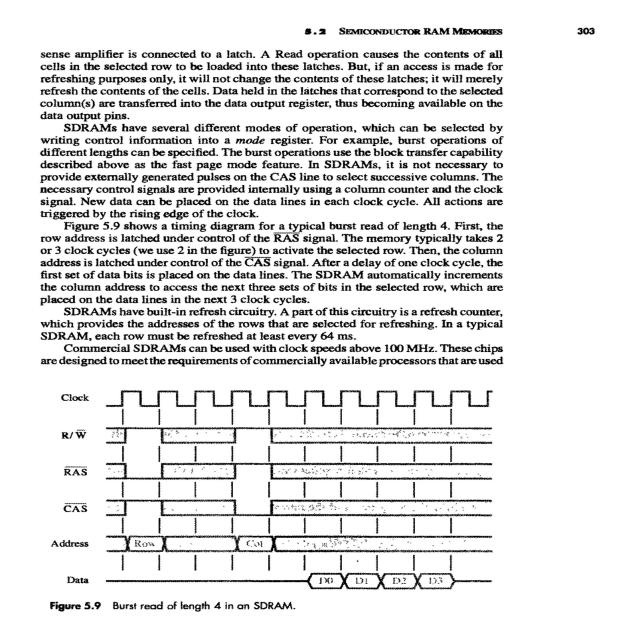diagram: (26, 379, 562, 629), (639, 372, 640, 383)
